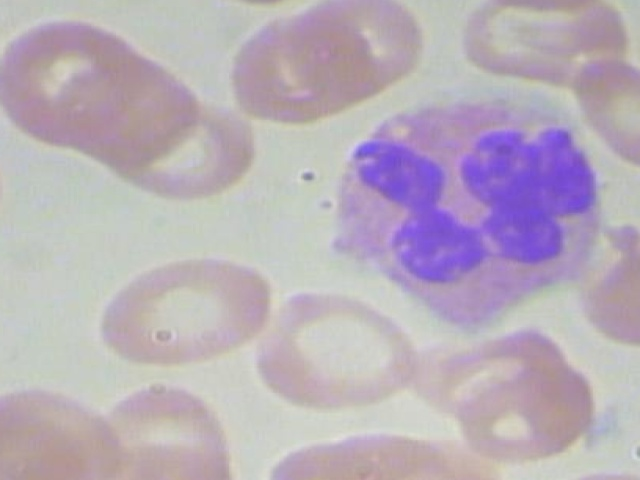RBC: (83, 242, 284, 377), (260, 275, 432, 424), (0, 13, 146, 138), (450, 360, 625, 462), (416, 322, 576, 421), (210, 11, 357, 117), (0, 377, 134, 480), (290, 0, 433, 95), (571, 55, 640, 170)
WBC: (306, 84, 626, 349)
